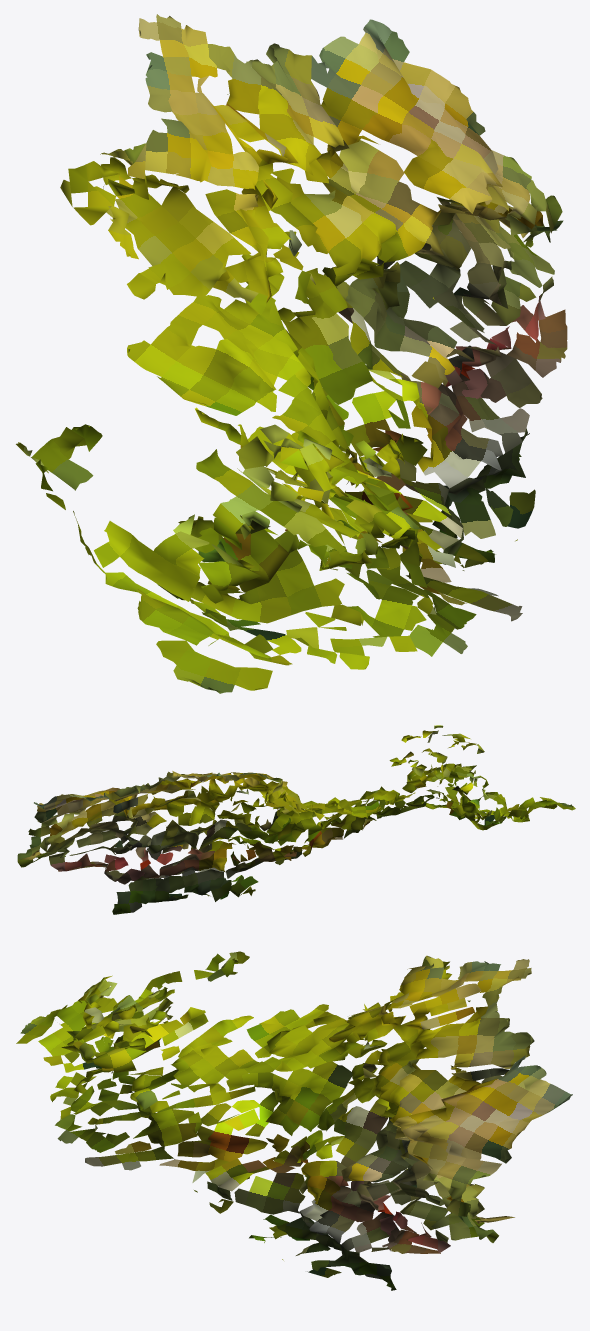
File: test1_back.obj
3 renders of one model, top to bottom at view 1: azimuth 30°, elevation 25°; view 2: azimuth 150°, elevation 25°; view 3: azimuth 270°, elevation 25°, orthographic. The views are drawn at different scales.
Size of the model in its own units: 70.49 by 39.45 by 76.51.
